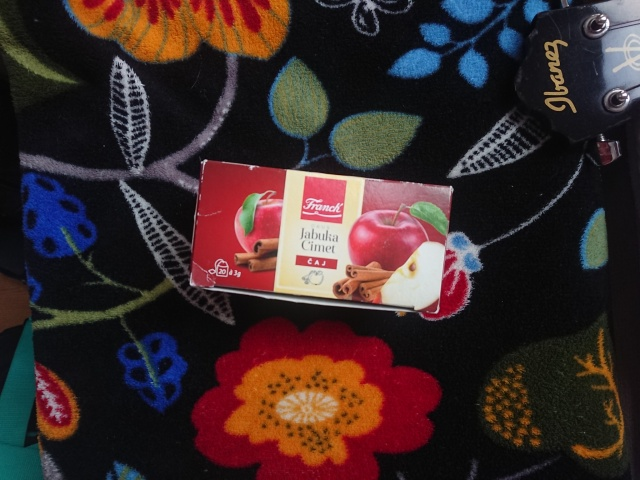Franck Apple Cinnamon Tea 60g: (187, 155, 455, 316)
